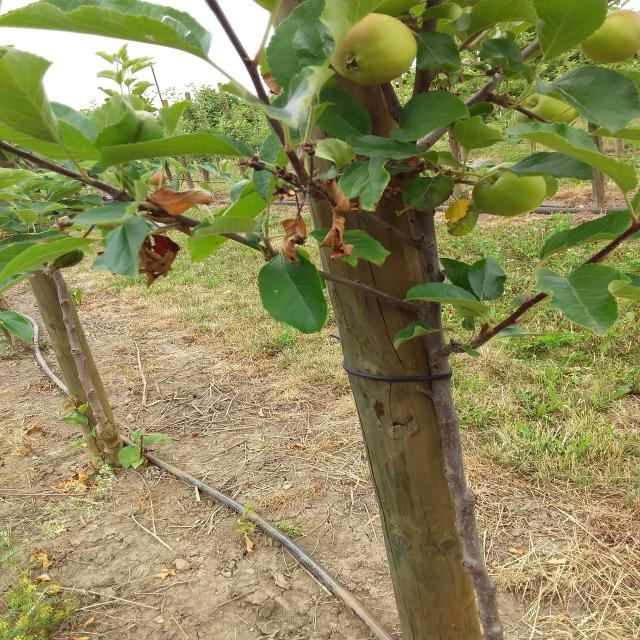-FireBlight-: (141, 179, 202, 286), (285, 176, 356, 265)
